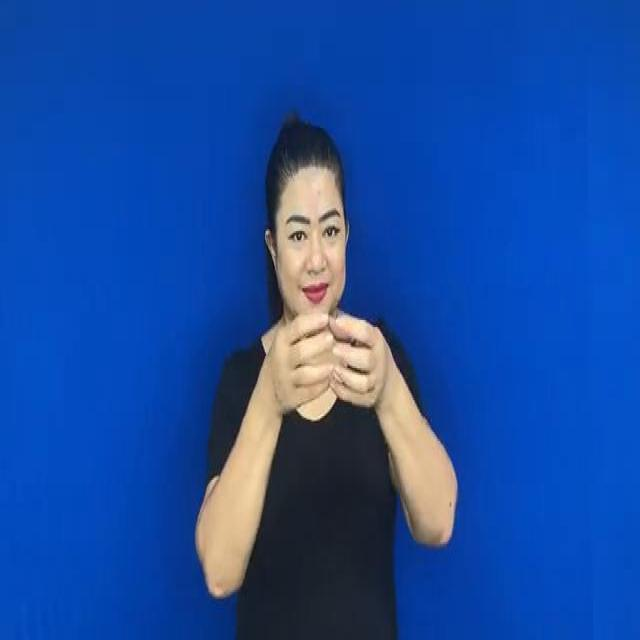egg: (256, 303, 394, 430)
